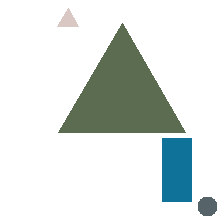circle: (198, 197, 216, 215)
rectangle: (162, 138, 191, 201)
triangle: (58, 23, 185, 132), (57, 8, 78, 26)
